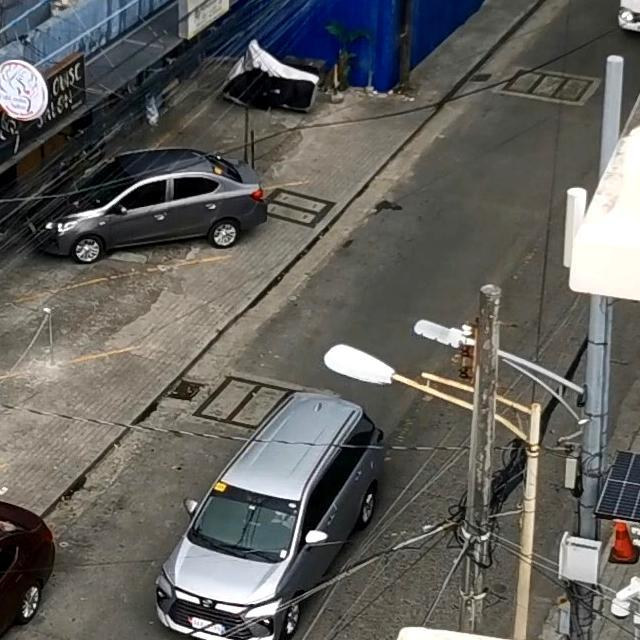Car: (153, 390, 377, 640), (32, 148, 257, 262)
